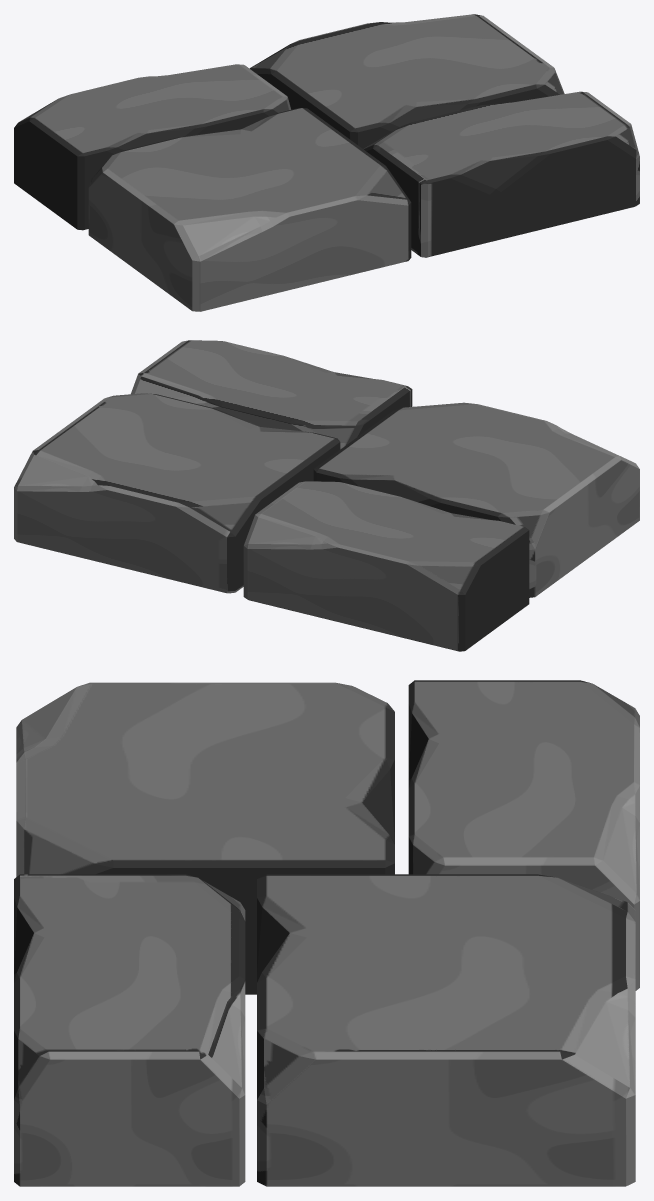
Rendered from tasplatform.fbx.
The picture shows the model from 3 angles, top to bottom: view 1: azimuth 30°, elevation 25°; view 2: azimuth 150°, elevation 25°; view 3: azimuth 270°, elevation 25°; orthographic projection. The views are drawn at different scales.
Parts seen in each view (by area): view 1: Cube.054; view 2: Cube.054; view 3: Cube.054.
Part boxes in pixels (x1=…): Cube.054: x1=14, y1=14, x2=639, y2=311; Cube.054: x1=14, y1=340, x2=639, y2=651; Cube.054: x1=14, y1=680, x2=639, y2=1186.
Size of the model in its own units: 3.75 by 0.6162 by 2.61.
Materials: 1 (1 with a texture image).
